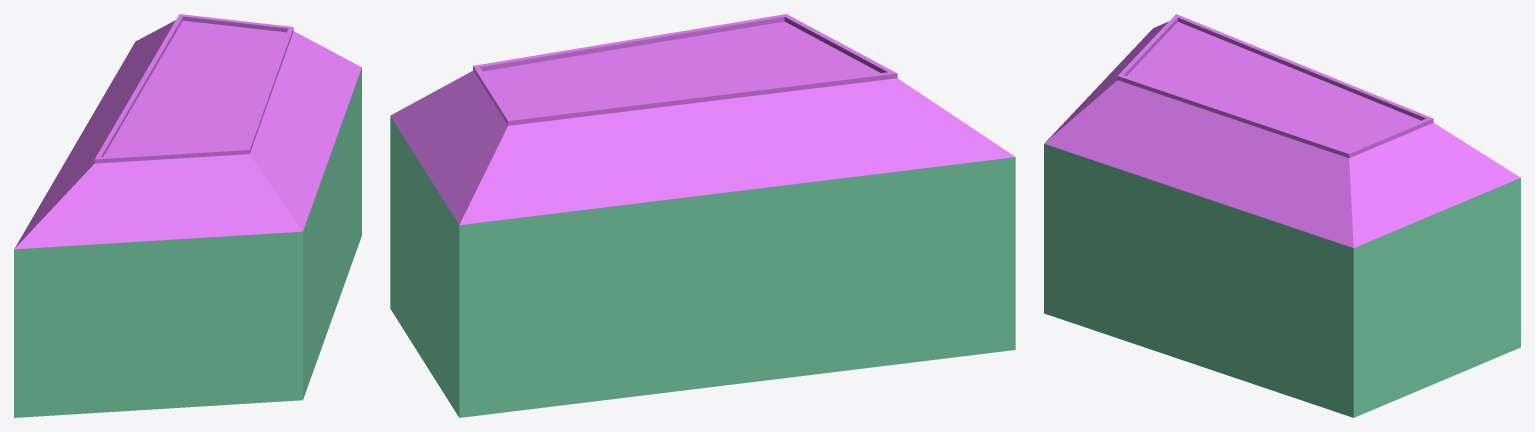
File: Batiment14.fbx
3 renders of one model, left to right at view 1: azimuth 30°, elevation 25°; view 2: azimuth 150°, elevation 25°; view 3: azimuth 270°, elevation 25°, orthographic. The views are drawn at different scales.
Visible parts, largest first — view 1: Batiment14; view 2: Batiment14; view 3: Batiment14.
Boxes of the visible parts, x1,y1,x2,y2 form: Batiment14: (14,14,361,417); Batiment14: (390,14,1015,417); Batiment14: (1044,14,1520,417).
Bounding box in the file's own units: 67.92 × 33.03 × 62.24.
